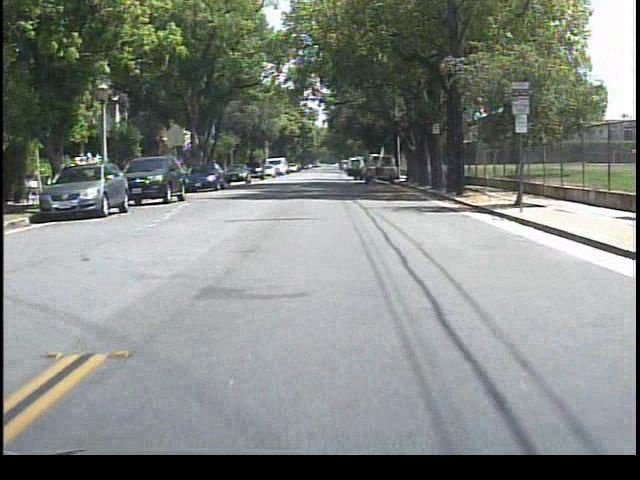person: (347, 158, 363, 184)
